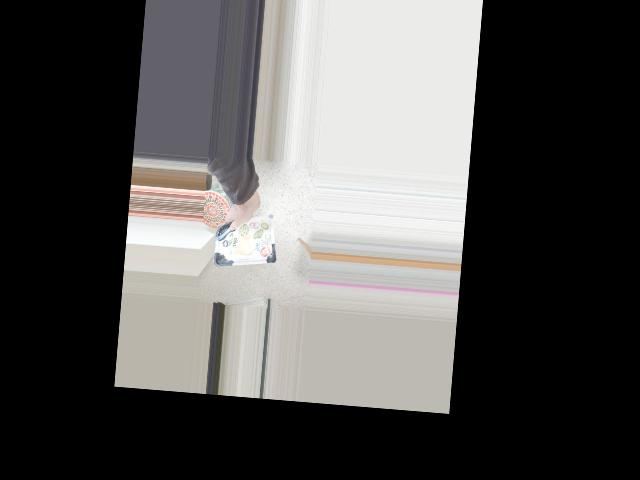cheese: (225, 202, 278, 254)
